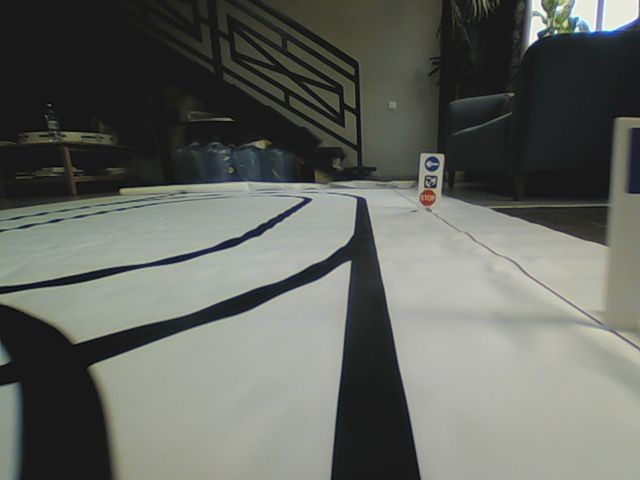Stop: (418, 188, 437, 208)
